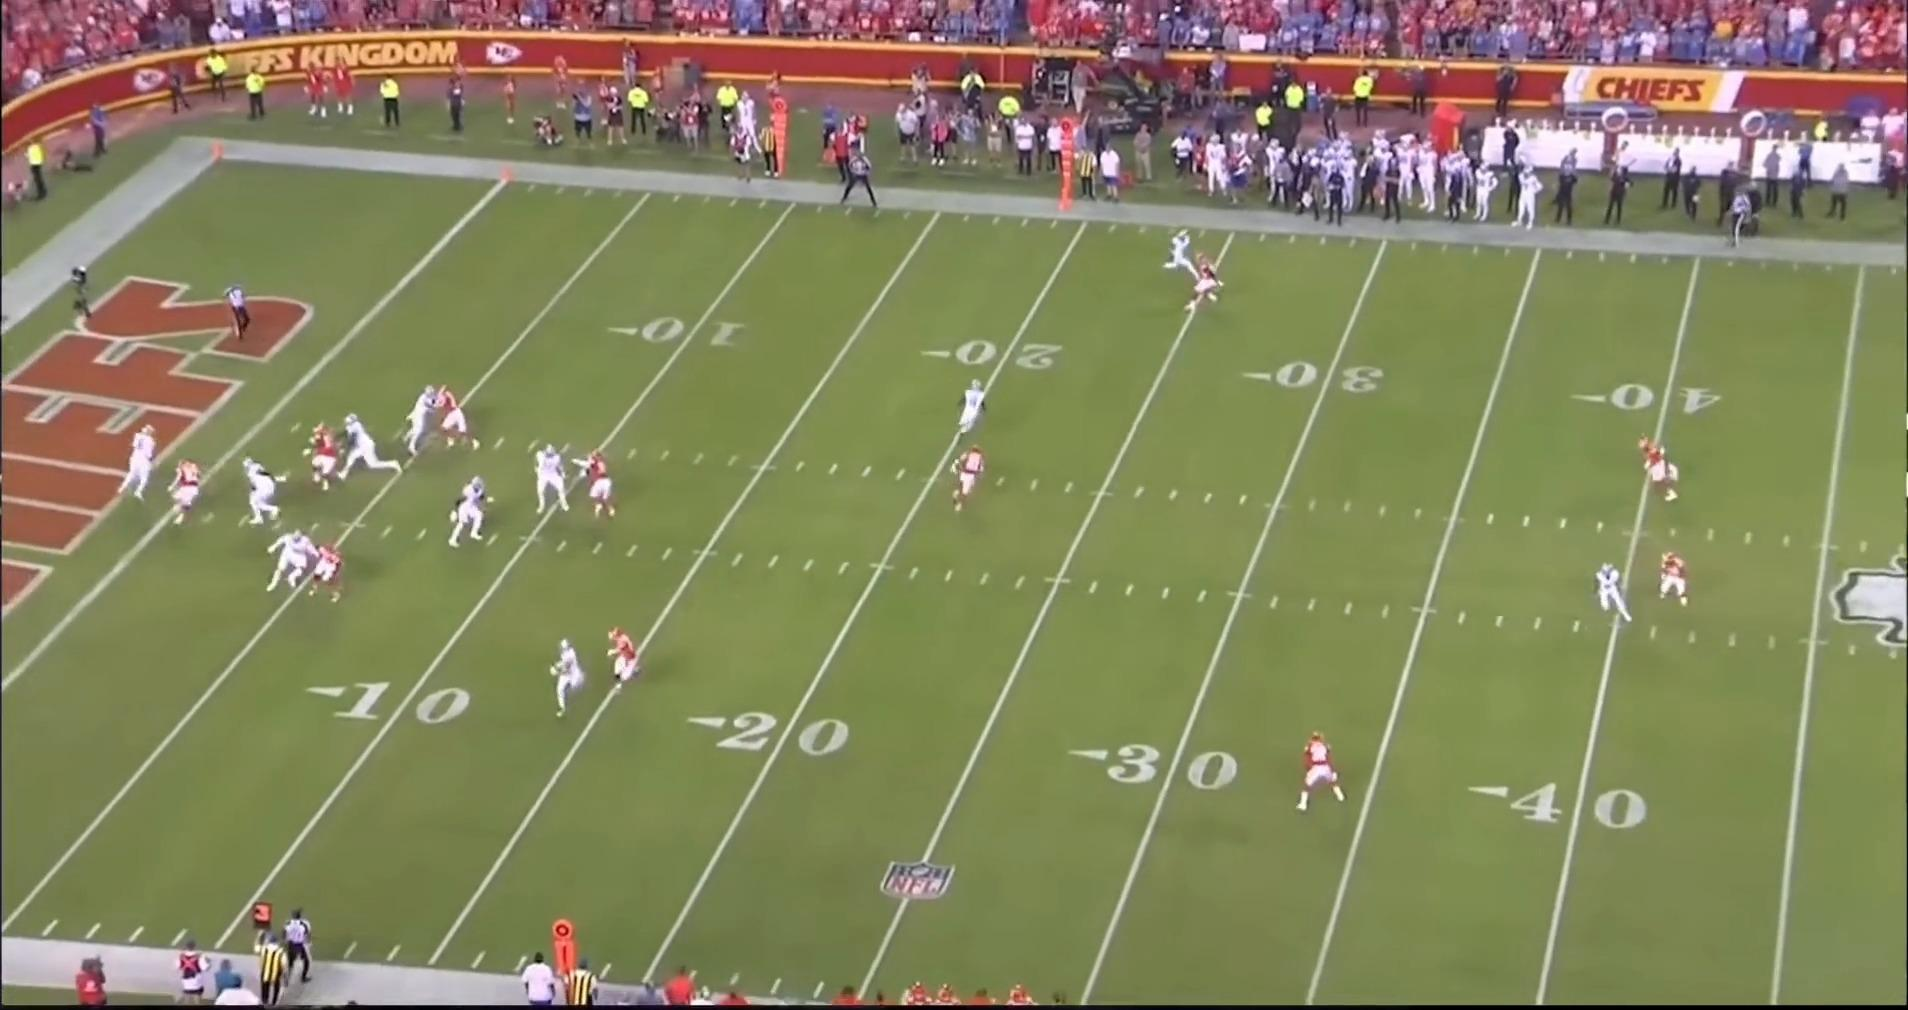player: (1296, 733, 1357, 814), (338, 413, 399, 480), (119, 424, 163, 505), (447, 472, 492, 549), (530, 443, 575, 520), (269, 530, 319, 597), (1640, 435, 1687, 505), (402, 383, 446, 456), (1589, 561, 1636, 629), (246, 457, 288, 532), (582, 451, 625, 524), (546, 639, 585, 719), (168, 458, 210, 531), (439, 390, 483, 459), (302, 539, 348, 604), (957, 443, 997, 513), (608, 627, 648, 696), (1181, 254, 1224, 318), (1653, 550, 1696, 611), (956, 377, 990, 440), (306, 424, 337, 489), (1162, 228, 1199, 277)
ref: (277, 905, 319, 987), (837, 150, 879, 209), (223, 278, 255, 344), (1724, 184, 1755, 250)
